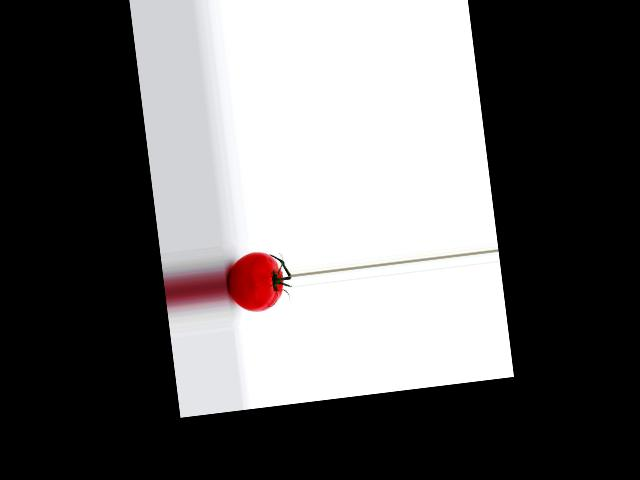tomato: (224, 250, 286, 315)
